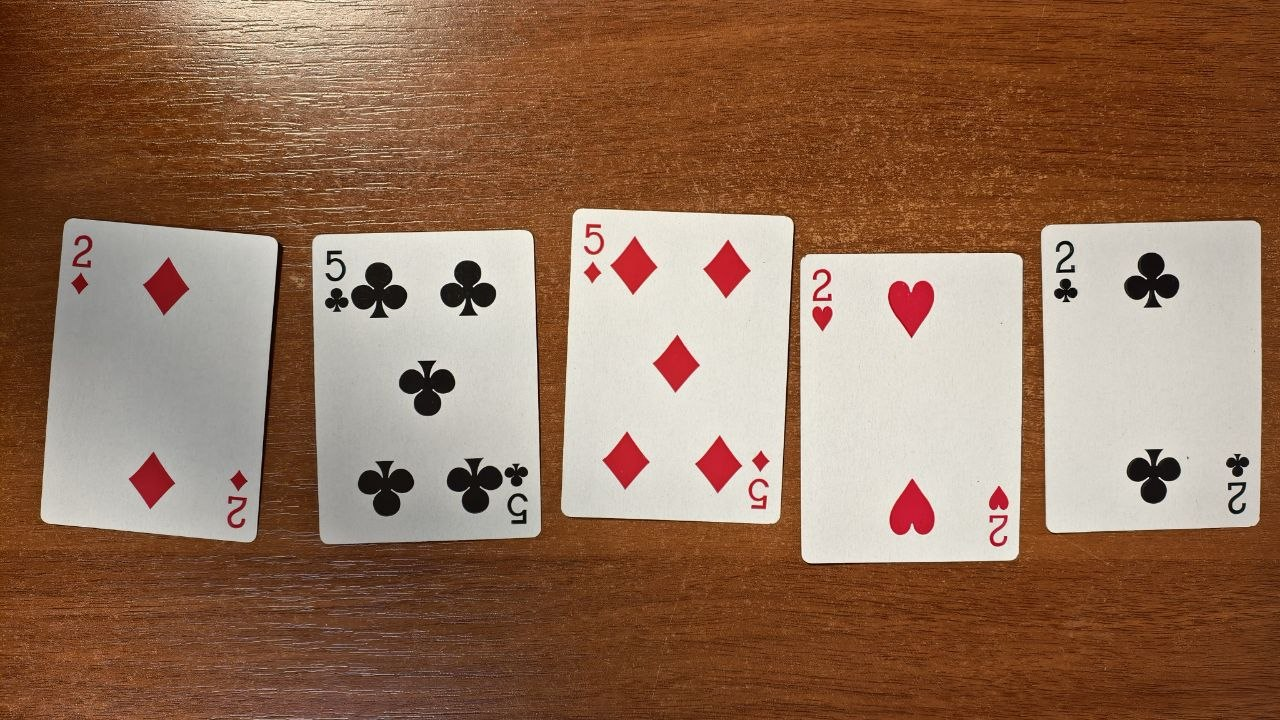2C: (1040, 218, 1263, 532)
2D: (40, 216, 279, 545)
2H: (800, 251, 1021, 562)
5C: (312, 229, 543, 543)
5D: (559, 206, 795, 525)
